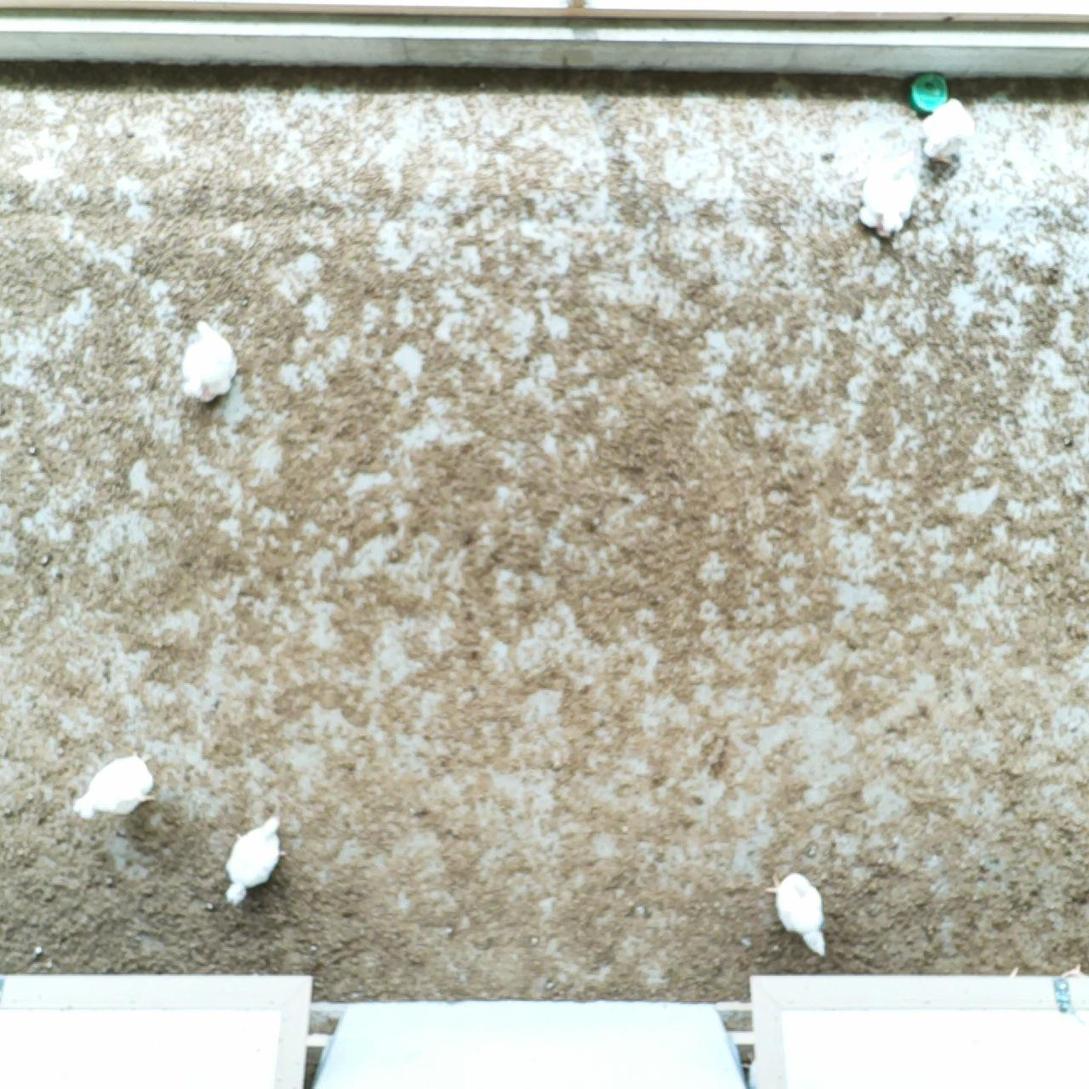chicken: (62, 745, 161, 829), (174, 313, 248, 408), (220, 810, 289, 909), (763, 864, 833, 961), (853, 148, 924, 243), (914, 93, 977, 168)
